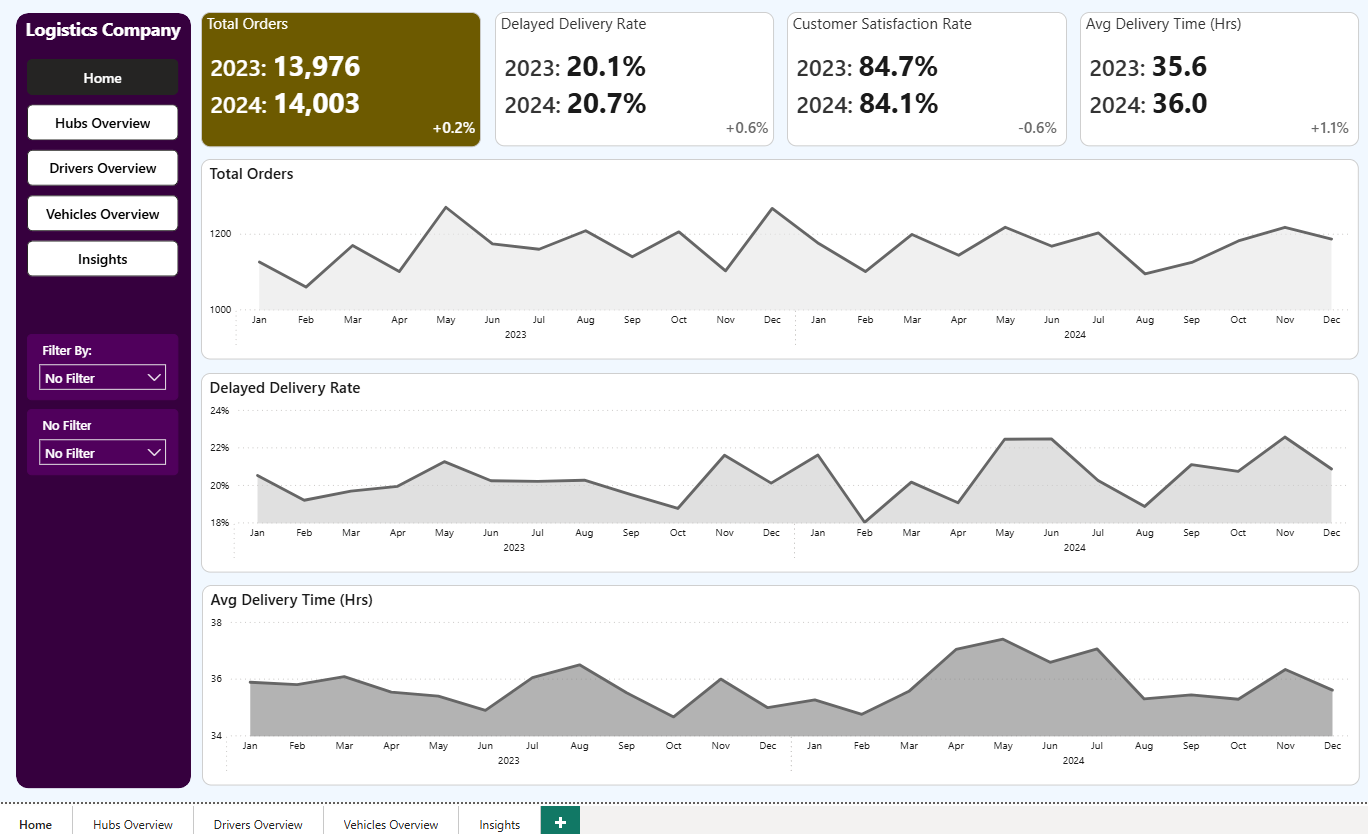

What the dashboard file says about the page in this screenshot:
{"tool":"powerbi","page":{"name":"Home ","canvas":[1450,850],"ordinal":0},"visuals":[{"type":"areaChart","title":"Total Orders","fields":{"Category":["Date Table.Year","Date Table.Month Abr"],"Y":["Orders.Total Orders"]},"box":[213,170,1224,212],"z":0},{"type":"shape","box":[16.5,15.4,185.1,819.8],"z":1000},{"type":"textbox","box":[20,15,177.5,35],"z":2000},{"type":"pageNavigator","box":[28.8,65,160,231.2],"z":3000},{"type":"areaChart","title":"Delayed Delivery Rate","fields":{"Category":["Date Table.Year","Date Table.Month Abr"],"Y":["Orders.Delayed Delivery Rate"]},"box":[213,396,1224,211],"z":4000},{"type":"areaChart","title":"Avg Delivery Time (Hrs)","fields":{"Category":["Date Table.Year","Date Table.Month Abr"],"Y":["Orders.Avg Delivery Time (Hrs)"]},"box":[213.8,621,1224,212],"z":5000},{"type":"cardVisual","title":"Total Orders ","fields":{"Data":["Orders.Total Orders 23/24 change"]},"box":[212.5,15,296.2,142.5],"z":6000},{"type":"cardVisual","title":"Delayed Delivery Rate","fields":{"Data":["Orders.Delayed Delivery Rate 23/24 change"]},"box":[523,15,295,142],"z":7000},{"type":"cardVisual","title":"Customer Satisfaction Rate","fields":{"Data":["Orders.CSAT 23/24 change"]},"box":[832,15,296,142],"z":8000},{"type":"cardVisual","title":"Avg Delivery Time (Hrs) ","fields":{"Data":["Orders.Avg Delivery Time (Hrs) 23/24 change"]},"box":[1142,15,295,142],"z":9000},{"type":"slicer","fields":{"Values":["slicer 1 .slicer 1 "]},"box":[28.8,355,160,70],"z":10000},{"type":"slicer","fields":{"Values":["Dashboard Slicer.No Filter"]},"box":[28.8,435,160,70],"z":11000}]}

Visuals, with their boxes on the page's 1450x850 design canvas (x1, y1, x2, y2). These are canvas units, not pixel positions in the 1368x834 screenshot, which may show the page scaled, cropped or inside an application window:
"Total Orders" areaChart: x1=213 y1=170 x2=1437 y2=382
shape: x1=16 y1=15 x2=202 y2=835
textbox: x1=20 y1=15 x2=198 y2=50
pageNavigator: x1=29 y1=65 x2=189 y2=296
"Delayed Delivery Rate" areaChart: x1=213 y1=396 x2=1437 y2=607
"Avg Delivery Time (Hrs)" areaChart: x1=214 y1=621 x2=1438 y2=833
"Total Orders " cardVisual: x1=212 y1=15 x2=509 y2=158
"Delayed Delivery Rate" cardVisual: x1=523 y1=15 x2=818 y2=157
"Customer Satisfaction Rate" cardVisual: x1=832 y1=15 x2=1128 y2=157
"Avg Delivery Time (Hrs) " cardVisual: x1=1142 y1=15 x2=1437 y2=157
slicer - slicer 1 .slicer 1 : x1=29 y1=355 x2=189 y2=425
slicer - Dashboard Slicer.No Filter: x1=29 y1=435 x2=189 y2=505
